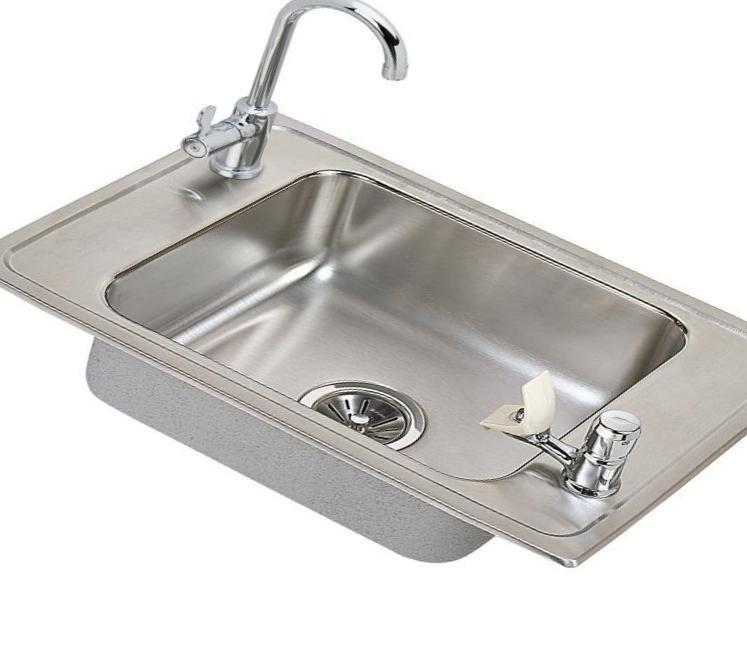Lavaplatos: (0, 0, 746, 565)
